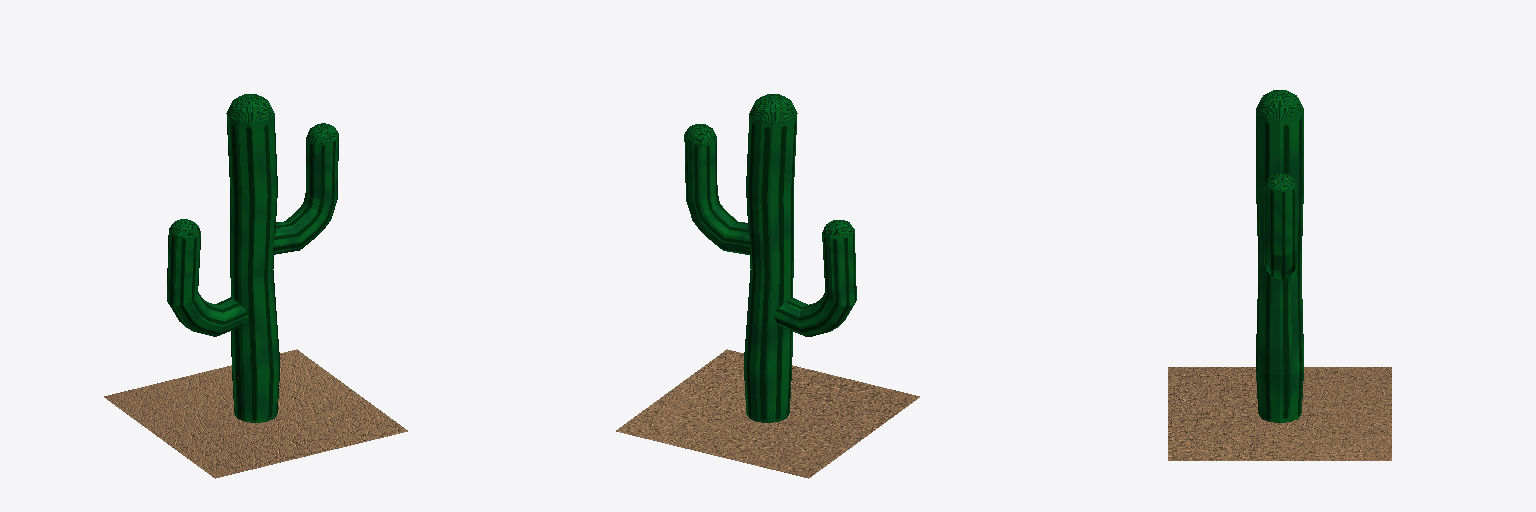
The picture shows the model from 3 angles: view 1: azimuth 30°, elevation 25°; view 2: azimuth 150°, elevation 25°; view 3: azimuth 270°, elevation 25°; orthographic projection.
Visible parts, largest first — view 1: polySurface1; view 2: polySurface1; view 3: polySurface1.
Part boxes in pixels (bbox=[...]): polySurface1: bbox=[104, 94, 407, 478]; polySurface1: bbox=[616, 94, 919, 478]; polySurface1: bbox=[1168, 90, 1391, 460].
Bounding box in the file's own units: 1 × 1.58 × 1.
1 materials, 1 textured.